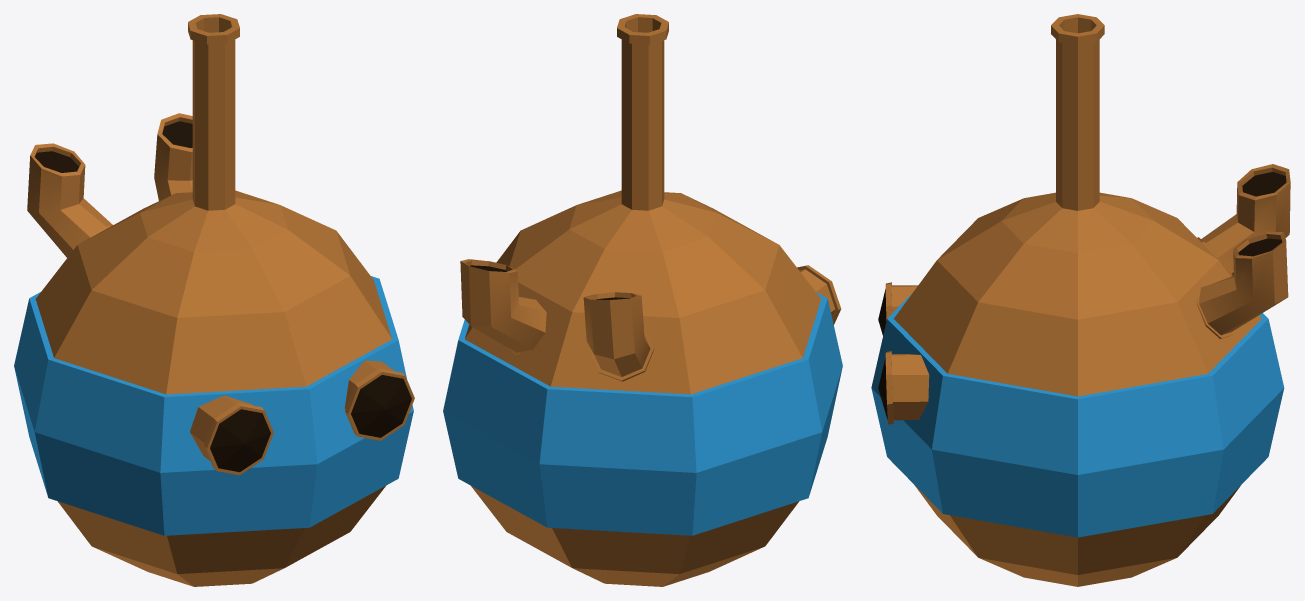
The model's file is GunBotBody.fbx.
3 views of the same model, side by side, from view 1: azimuth 30°, elevation 25°; view 2: azimuth 150°, elevation 25°; view 3: azimuth 270°, elevation 25° (orthographic).
Parts seen in each view (by area): view 1: GunBotBody; view 2: GunBotBody; view 3: GunBotBody.
Boxes of the visible parts, <box> form: GunBotBody: <box>14,14,414,586</box>; GunBotBody: <box>443,14,842,586</box>; GunBotBody: <box>871,14,1290,586</box>.
Size of the model in its own units: 95.17 by 138 by 96.63.
